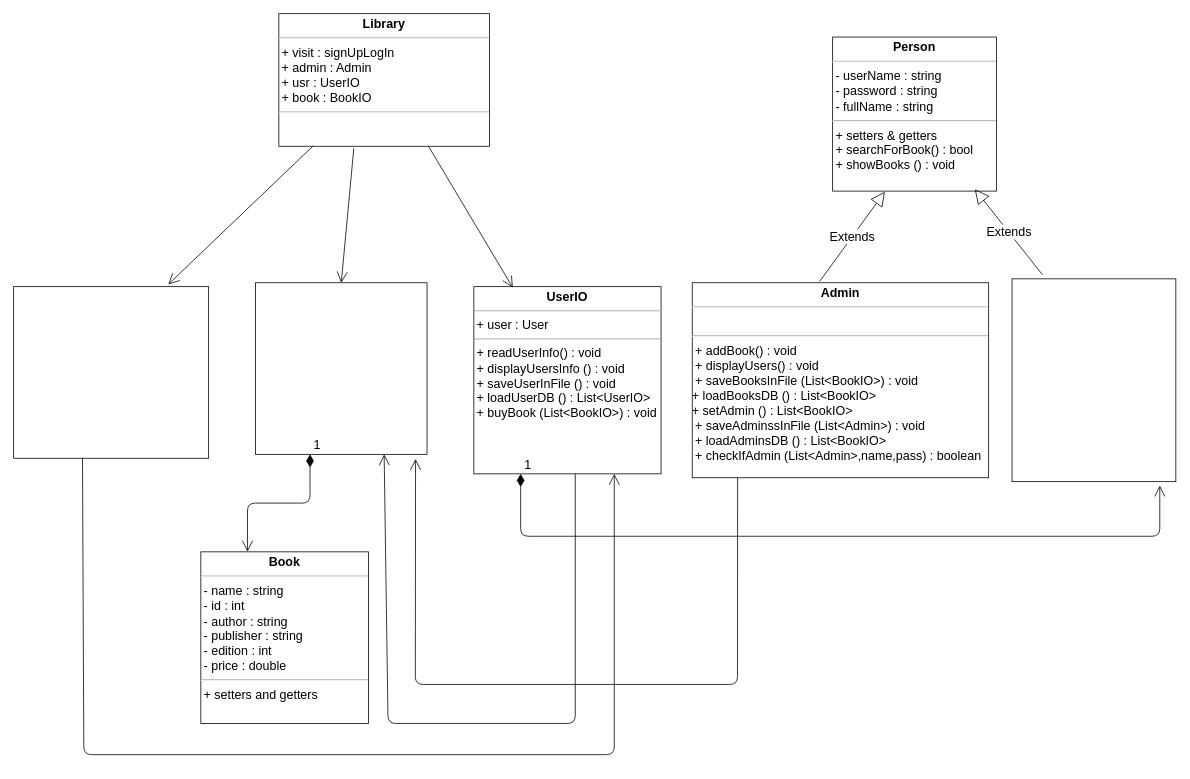
Image size: 1190x779. Some labels were removed from this diagram. Each missing label, with the centre of its shape:
"BookIO + book : Book + readBookInfo() : void + displayBookInfo : void" belongs at [341,368].
"SignUpLogIn + signUp (List<UseIO>) : boolean + logIn (List<UseIO>) : boolean" belongs at [111,372].
"User - numOfReadBooks : int - numOfBoughtBooks : int + Setters & getters" belongs at [1093,380].
